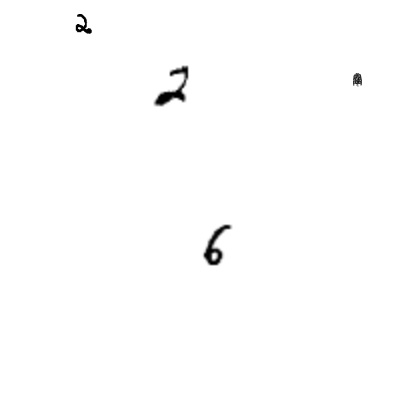2: (144, 60, 200, 116), (69, 11, 97, 39)
6: (186, 219, 242, 275)
Shirt: (350, 73, 364, 87)
